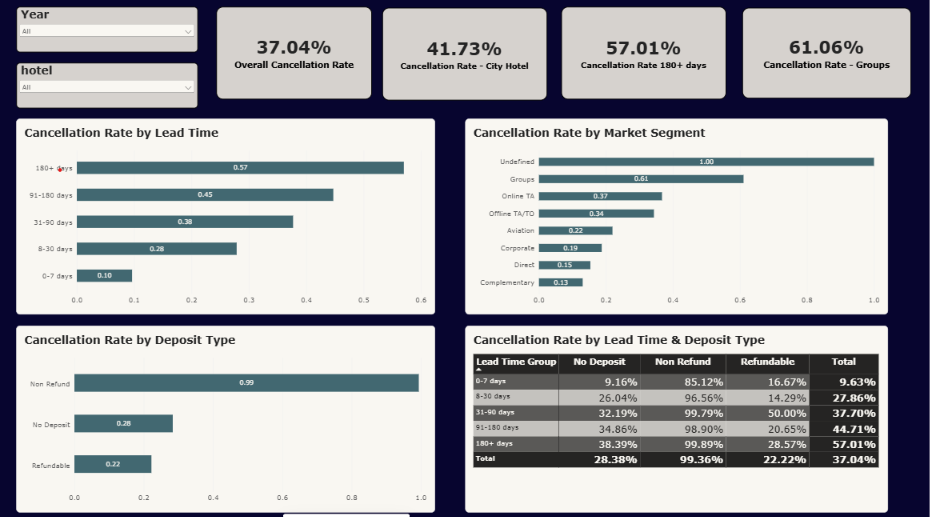

Layout of this report page (visuals, bound fields, positions):
{"tool":"powerbi","page":{"name":"Cancellation Analysis","canvas":[1920,1080],"ordinal":1},"visuals":[{"type":"slicer","fields":{"Values":["hotel_bookings_main.arrival_date_year"]},"box":[34,18,374,94],"z":0},{"type":"slicer","fields":{"Values":["hotel_bookings_main.hotel"]},"box":[34,134,374,94],"z":1000},{"type":"clusteredBarChart","title":"Cancellation Rate by Lead Time","fields":{"Category":["Lead Time Order.Lead Time Group"],"Y":["Avg(hotel_bookings_main.is_canceled)"]},"box":[35,249.1,862.4,403.4],"z":2000},{"type":"clusteredBarChart","title":"Cancellation Rate by Market Segment","fields":{"Category":["hotel_bookings_main.market_segment"],"Y":["Avg(hotel_bookings_main.is_canceled)"]},"box":[959.2,249.1,870.7,403.4],"z":3000},{"type":"clusteredBarChart","title":"Cancellation Rate by Deposit Type","fields":{"Category":["hotel_bookings_main.deposit_type"],"Y":["Avg(hotel_bookings_main.is_canceled)"]},"box":[35,675.1,862.4,384.9],"z":4000},{"type":"pivotTable","title":"Cancellation Rate by Lead Time & Deposit Type","fields":{"Columns":["hotel_bookings_main.deposit_type"],"Rows":["Lead Time Order.Lead Time Group"],"Values":["Avg(hotel_bookings_main.is_canceled)"]},"box":[959.2,675.1,870.7,384.9],"z":5000},{"type":"card","fields":{"Values":["Avg(hotel_bookings_main.is_canceled)"]},"box":[446.7,18.5,321.1,191.4],"z":6000},{"type":"card","fields":{"Values":["Avg(hotel_bookings_main.is_canceled)"]},"box":[788.3,20.6,339.6,191.4],"z":7000},{"type":"card","fields":{"Values":["Avg(hotel_bookings_main.is_canceled)"]},"box":[1529.3,20.6,347.9,187.3],"z":8000},{"type":"card","fields":{"Values":["Avg(hotel_bookings_main.is_canceled)"]},"box":[1156.8,18.5,339.6,191.4],"z":9000}]}

Visuals, with their boxes in screenshot pixels (x1, y1, x2, y2), scaled from the page's 1920x1080 canvas onto the 930x517 screenshot:
slicer - hotel_bookings_main.arrival_date_year: l=16, t=9, r=198, b=54
slicer - hotel_bookings_main.hotel: l=16, t=64, r=198, b=109
"Cancellation Rate by Lead Time" clusteredBarChart: l=17, t=119, r=435, b=312
"Cancellation Rate by Market Segment" clusteredBarChart: l=465, t=119, r=886, b=312
"Cancellation Rate by Deposit Type" clusteredBarChart: l=17, t=323, r=435, b=507
"Cancellation Rate by Lead Time & Deposit Type" pivotTable: l=465, t=323, r=886, b=507
card - Avg(hotel_bookings_main.is_canceled): l=216, t=9, r=372, b=100
card - Avg(hotel_bookings_main.is_canceled): l=382, t=10, r=546, b=101
card - Avg(hotel_bookings_main.is_canceled): l=741, t=10, r=909, b=100
card - Avg(hotel_bookings_main.is_canceled): l=560, t=9, r=725, b=100
